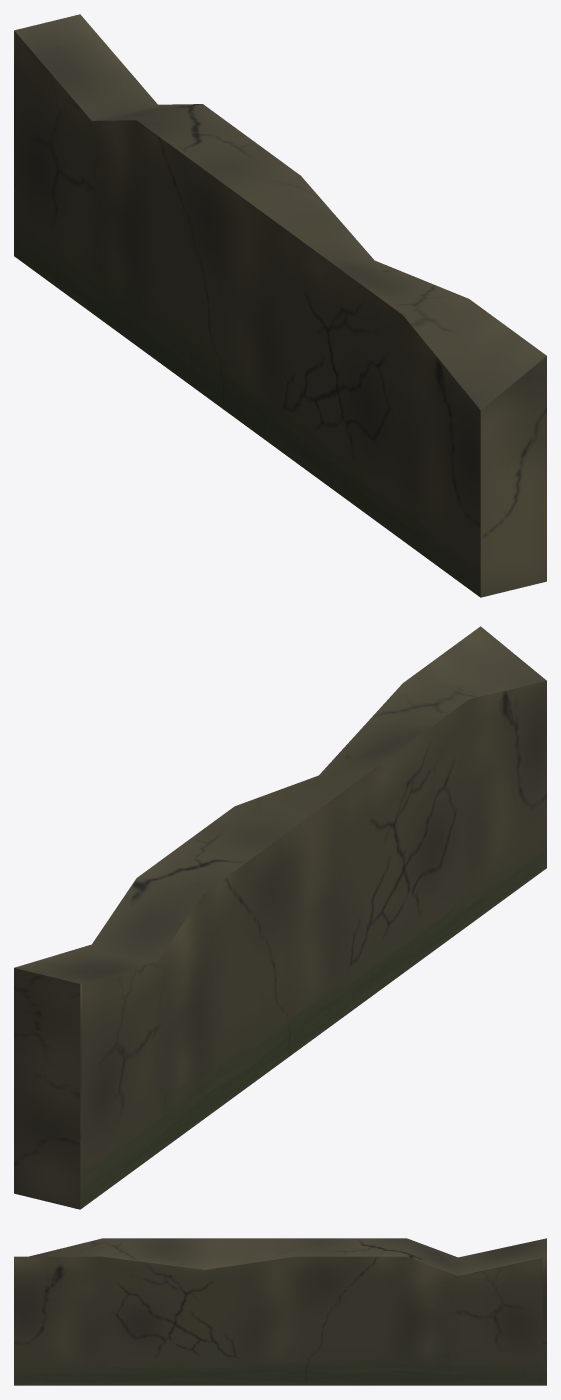
The model's file is ruin_wall_FBX.fbx.
The picture shows the model from 3 angles, top to bottom: view 1: azimuth 30°, elevation 25°; view 2: azimuth 150°, elevation 25°; view 3: azimuth 270°, elevation 25°; orthographic projection. The views are drawn at different scales.
Visible parts, largest first — view 1: pCube1; view 2: pCube1; view 3: pCube1.
Part boxes in pixels (x1,y1,x2,y2): pCube1: (14,14,546,597); pCube1: (14,626,546,1209); pCube1: (14,1238,546,1385).
Bounding box in the file's own units: 15.17 × 49.33 × 185.
